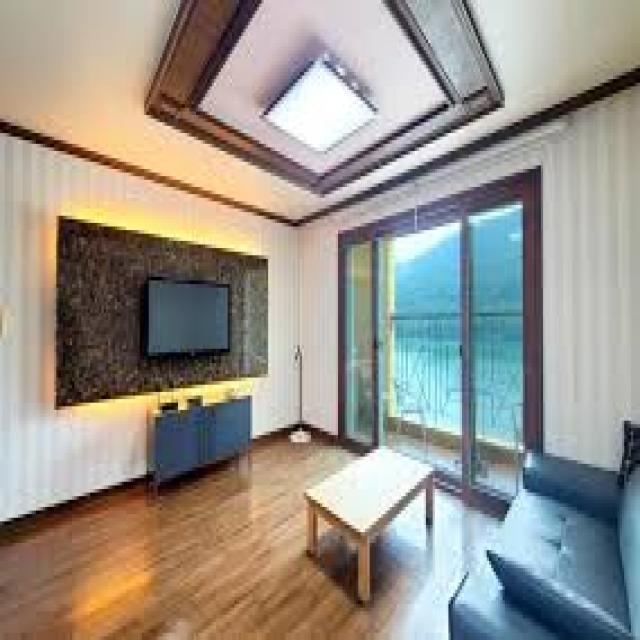Sofa: (448, 442, 640, 640)
Table: (300, 438, 438, 593)
tv: (145, 278, 231, 360)
window: (340, 222, 525, 472)
